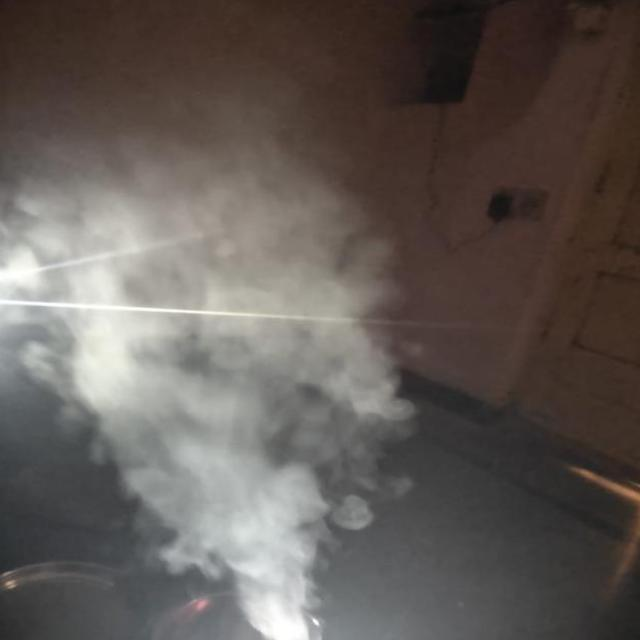fire: (0, 141, 394, 639)
